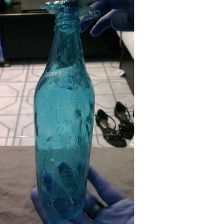bottle: (26, 13, 103, 221)
